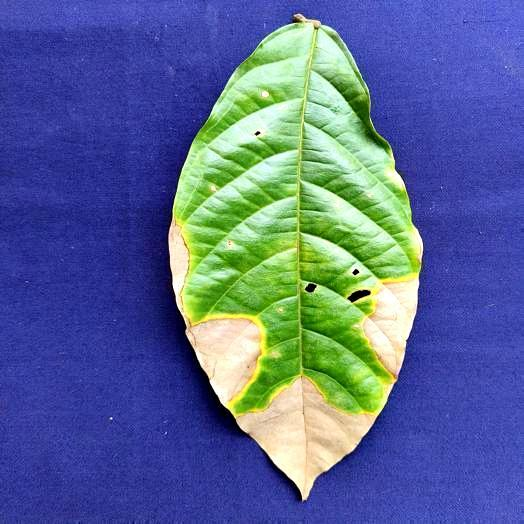Potassium: (170, 16, 422, 499)
